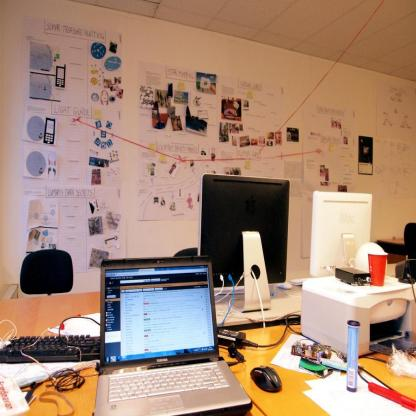board: (94, 255, 253, 416), (345, 320, 360, 396), (370, 250, 387, 290)
